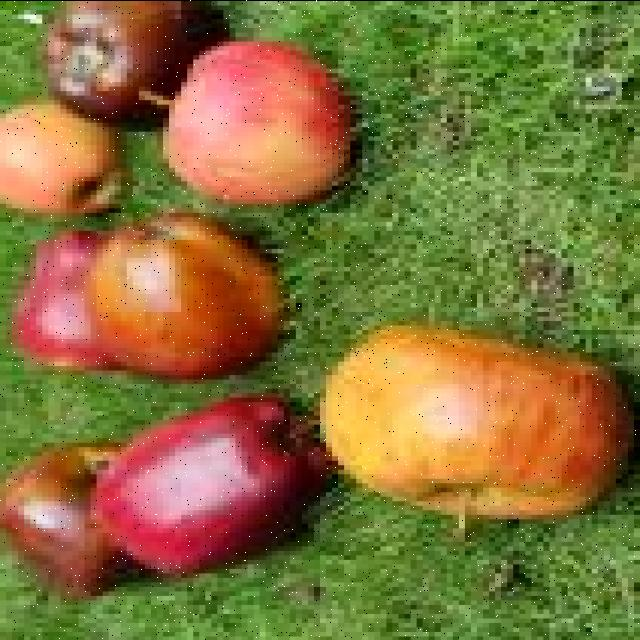Good_Apple 10-21 days: (51, 0, 352, 201), (326, 325, 632, 514), (74, 214, 282, 374)
